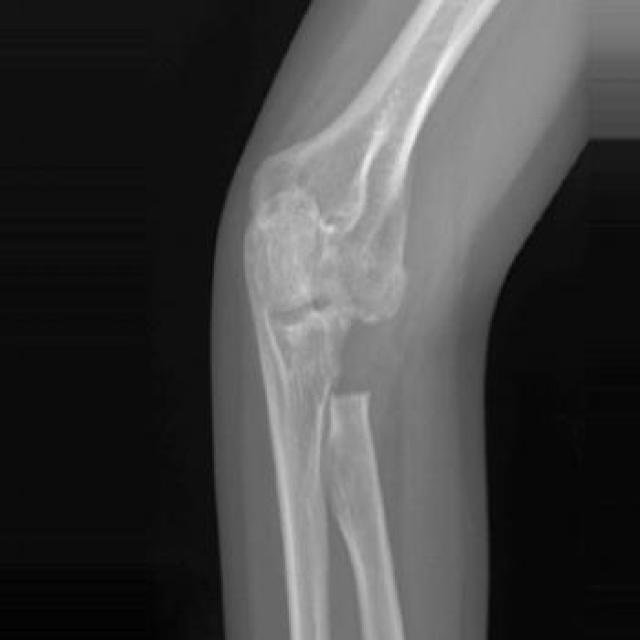Fracture: (294, 304, 424, 422)
